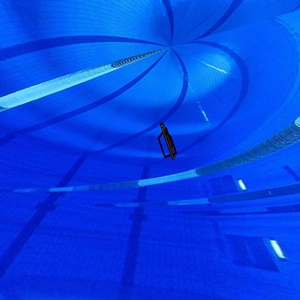submarine: (156, 119, 183, 163)
